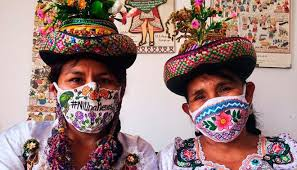with_mask: (49, 52, 126, 133), (180, 69, 255, 142)
